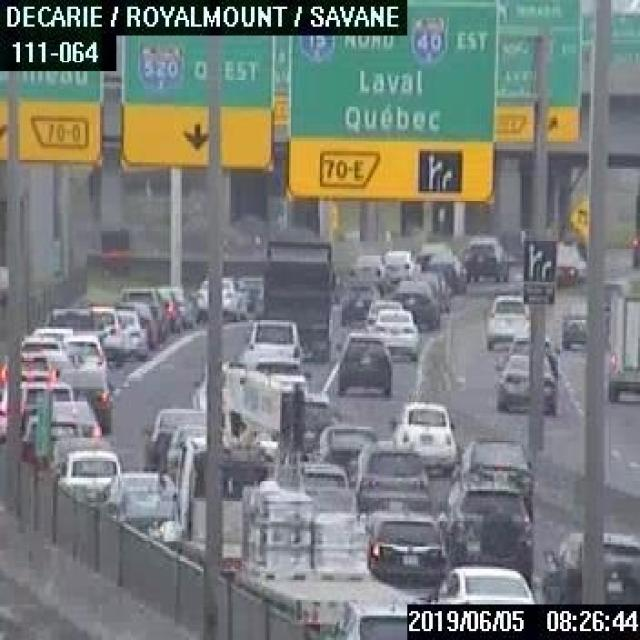vehicle: (174, 434, 420, 638), (438, 478, 531, 584), (262, 238, 331, 359), (541, 529, 638, 602), (358, 508, 442, 588), (462, 436, 532, 518), (356, 443, 430, 511), (103, 472, 177, 540), (392, 399, 456, 468), (143, 407, 207, 472), (606, 276, 638, 402), (430, 563, 534, 601), (494, 350, 558, 410), (55, 451, 119, 510), (54, 366, 112, 428), (318, 424, 377, 483), (338, 330, 392, 392), (47, 308, 105, 360), (19, 382, 72, 438), (189, 359, 249, 407), (247, 318, 299, 372), (486, 290, 533, 346), (389, 279, 437, 329), (370, 307, 418, 357), (119, 286, 161, 340), (460, 234, 508, 280), (88, 303, 121, 367), (115, 297, 155, 348), (48, 398, 100, 436), (300, 394, 334, 447), (196, 275, 237, 318), (154, 284, 192, 328), (61, 335, 104, 373), (423, 253, 465, 290), (339, 282, 377, 321), (0, 351, 51, 380), (114, 307, 144, 356), (560, 295, 585, 351), (19, 335, 61, 366), (348, 252, 383, 288), (553, 242, 582, 284), (364, 299, 401, 329), (156, 287, 178, 333), (382, 250, 416, 278), (29, 325, 71, 339)
